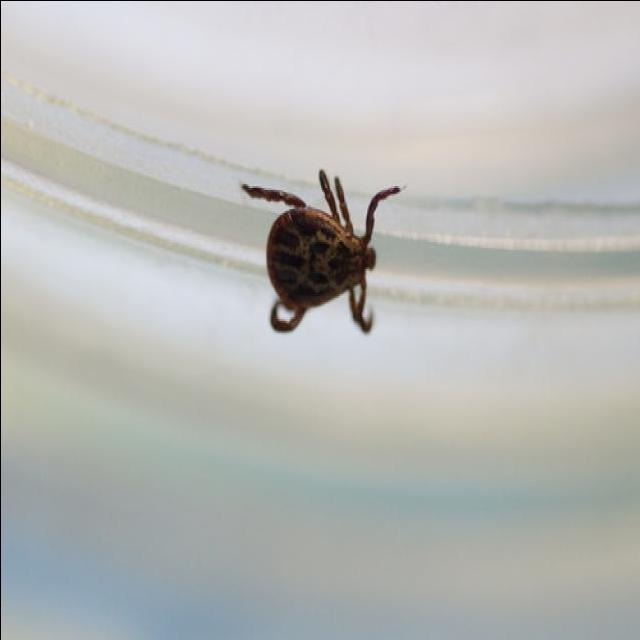Dermacentor Reticulatus-M: (242, 172, 399, 333)
